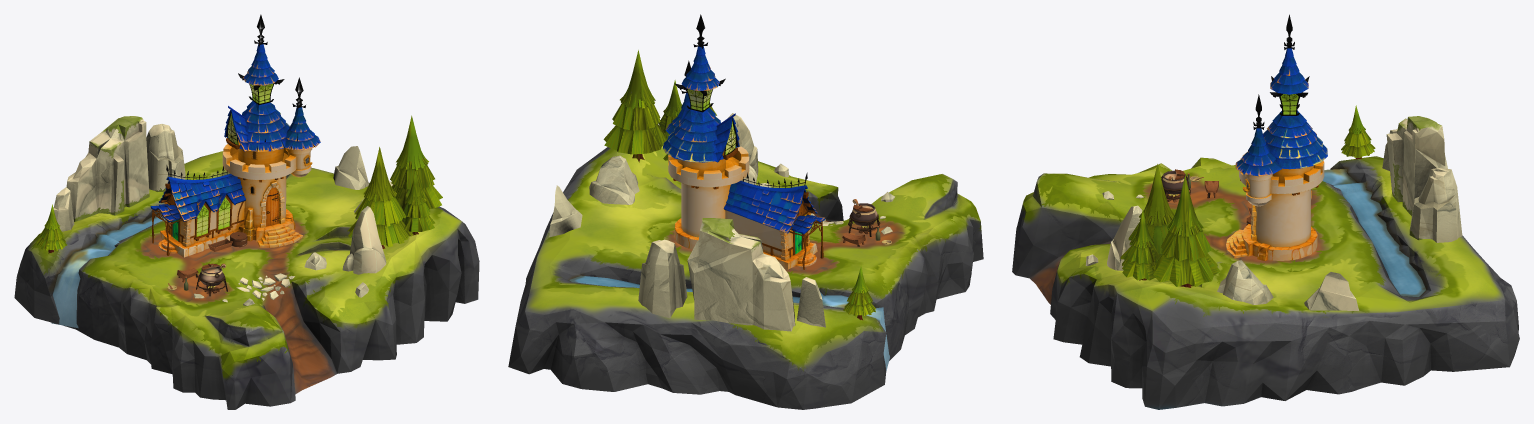
The model's file is Stylized_Castle_unity.FBX.
The picture shows the model from 3 angles, left to right: view 1: azimuth 30°, elevation 25°; view 2: azimuth 150°, elevation 25°; view 3: azimuth 270°, elevation 25°; orthographic projection. The views are drawn at different scales.
Parts seen in each view (by area): view 1: terrain, castle, rocks, trees, props; view 2: terrain, rocks, castle, trees, props; view 3: terrain, castle, rocks, trees, props.
Boxes of the visible parts, box(x1,y1,x2,y2) form: terrain: box(14, 151, 479, 409); castle: box(150, 14, 320, 257); rocks: box(53, 116, 392, 305); trees: box(36, 115, 442, 253); props: box(167, 232, 247, 296); terrain: box(508, 146, 983, 409); rocks: box(549, 113, 894, 331); castle: box(663, 14, 825, 269); trees: box(603, 50, 875, 320); props: box(842, 199, 891, 246); terrain: box(1012, 156, 1519, 409); castle: box(1226, 14, 1327, 260); rocks: box(1085, 116, 1462, 310); trees: box(1120, 105, 1375, 287); props: box(1161, 169, 1251, 225).
Bounding box in the file's own units: 347 × 255 × 378.
